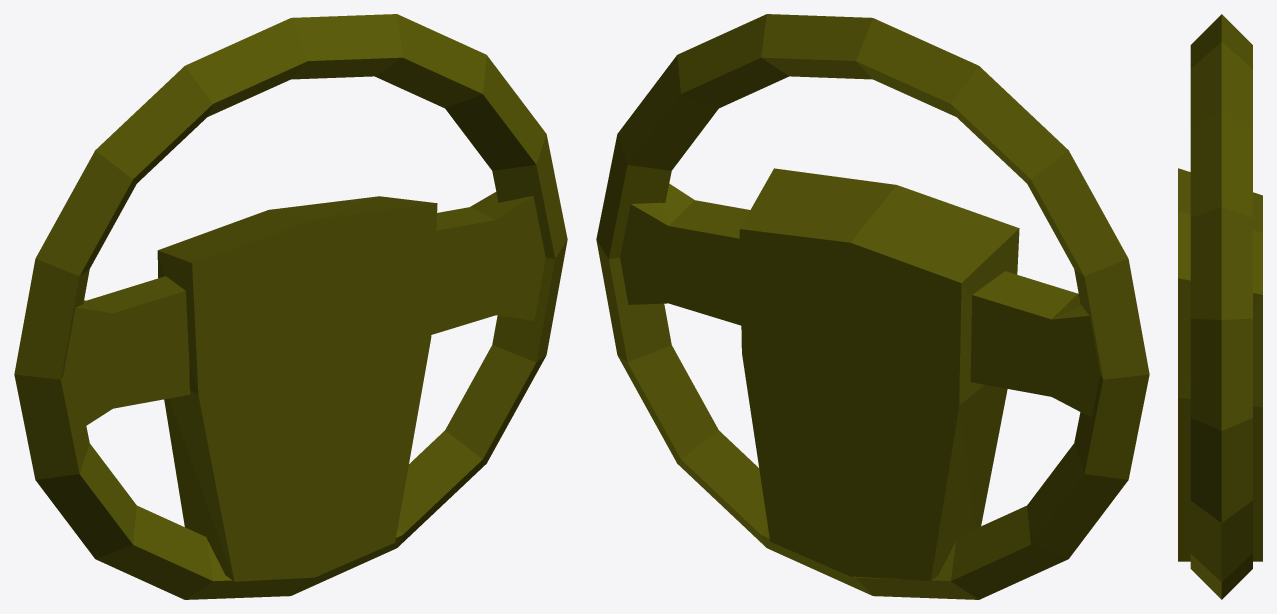
Rendered from steering_wheel.dae.
3 renders of one model, left to right at view 1: azimuth 30°, elevation 25°; view 2: azimuth 150°, elevation 25°; view 3: azimuth 270°, elevation 25°, orthographic. The views are drawn at different scales.
Parts seen in each view (by area): view 1: node0; view 2: node0; view 3: node0.
Boxes of the visible parts, left/top/right/bottom form: node0: left=14, top=14, right=567, bottom=599; node0: left=596, top=14, right=1149, bottom=599; node0: left=1178, top=14, right=1262, bottom=599.
Bounding box in the file's own units: 0.3617 × 0.0524 × 0.3612.
